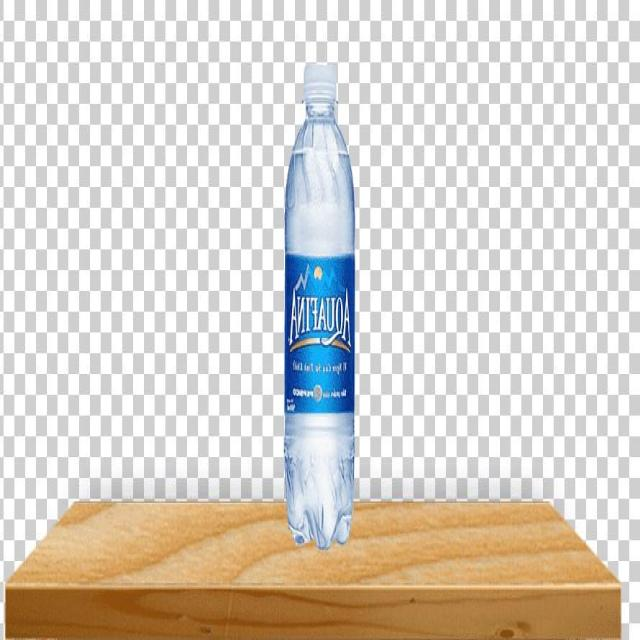plastic: (283, 64, 355, 549)
